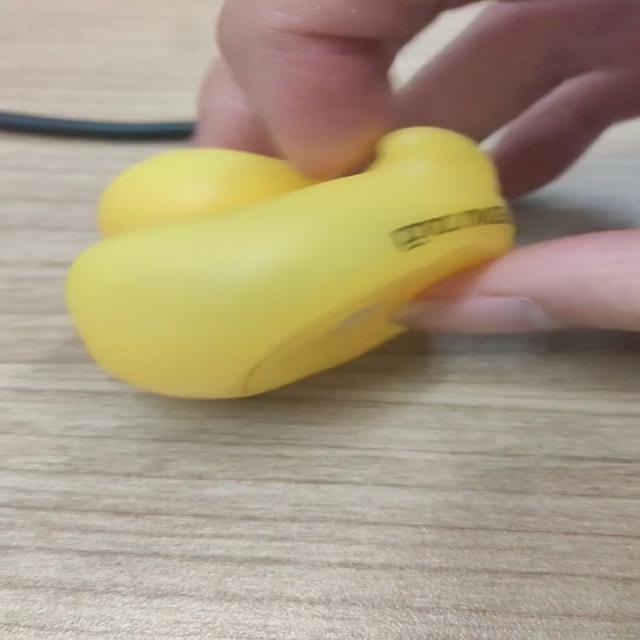rubber-duck: (65, 126, 512, 396)
